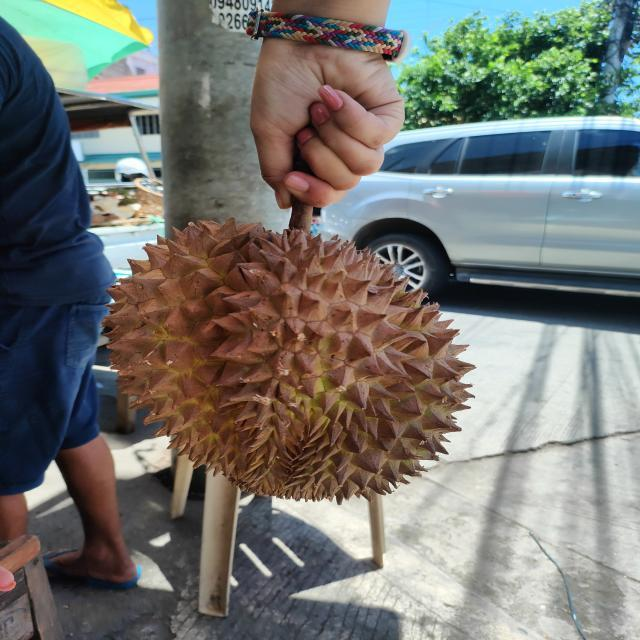mature: (100, 218, 473, 503)
